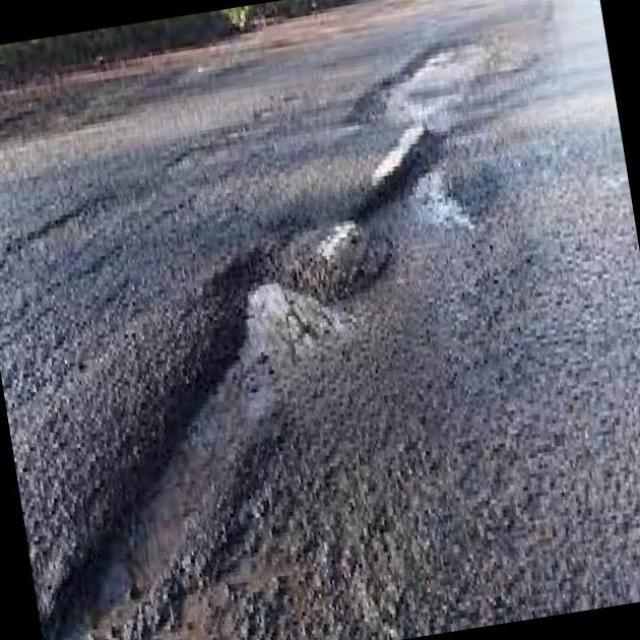Pathole: (38, 254, 355, 640), (376, 42, 493, 129), (393, 155, 476, 224), (330, 222, 372, 256)
